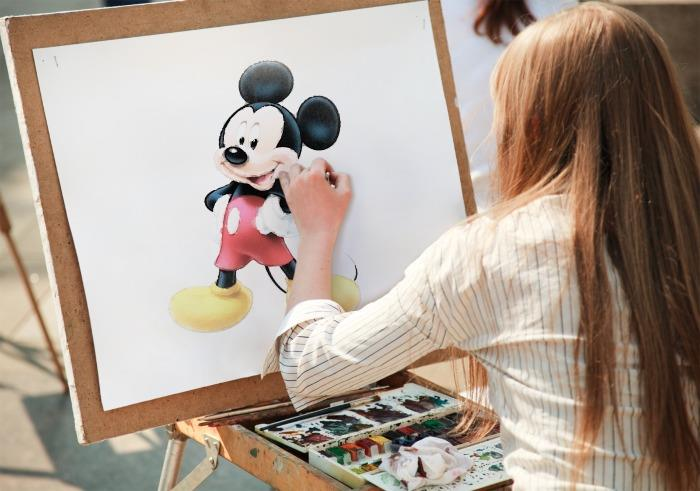Mickey_Mouse: (172, 61, 364, 338)
